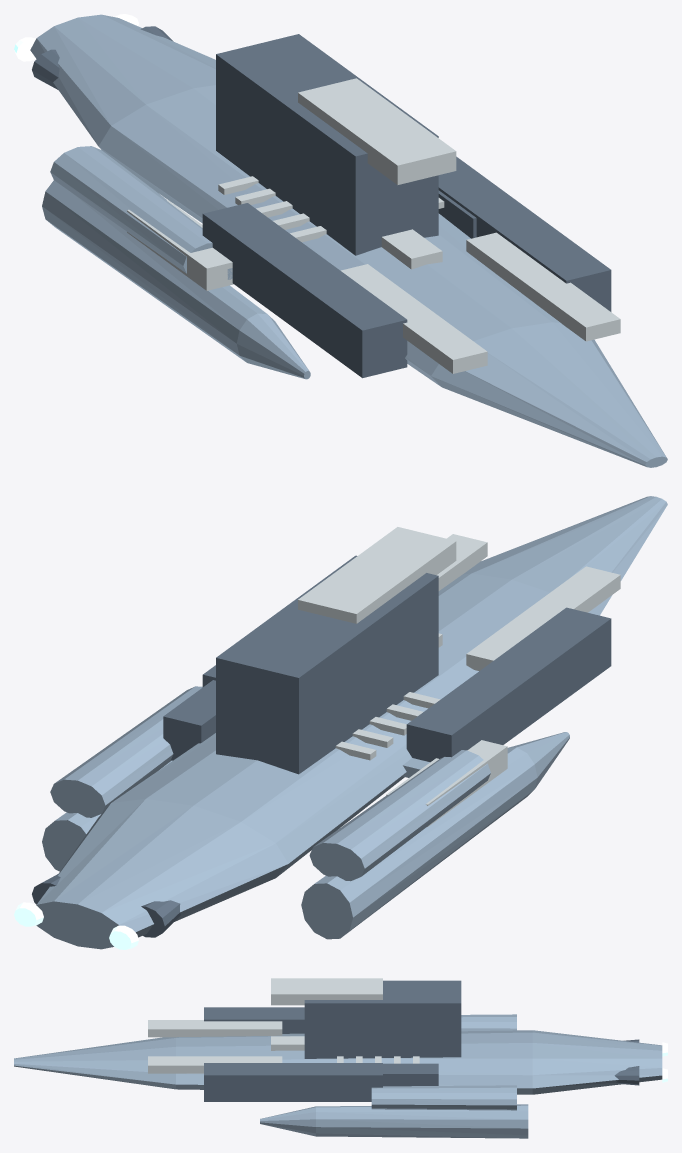
The picture shows the model from 3 angles, top to bottom: view 1: azimuth 30°, elevation 25°; view 2: azimuth 150°, elevation 25°; view 3: azimuth 270°, elevation 25°; orthographic projection. The views are drawn at different scales.
Size of the model in its own units: 4.19 by 2.62 by 13.45.
